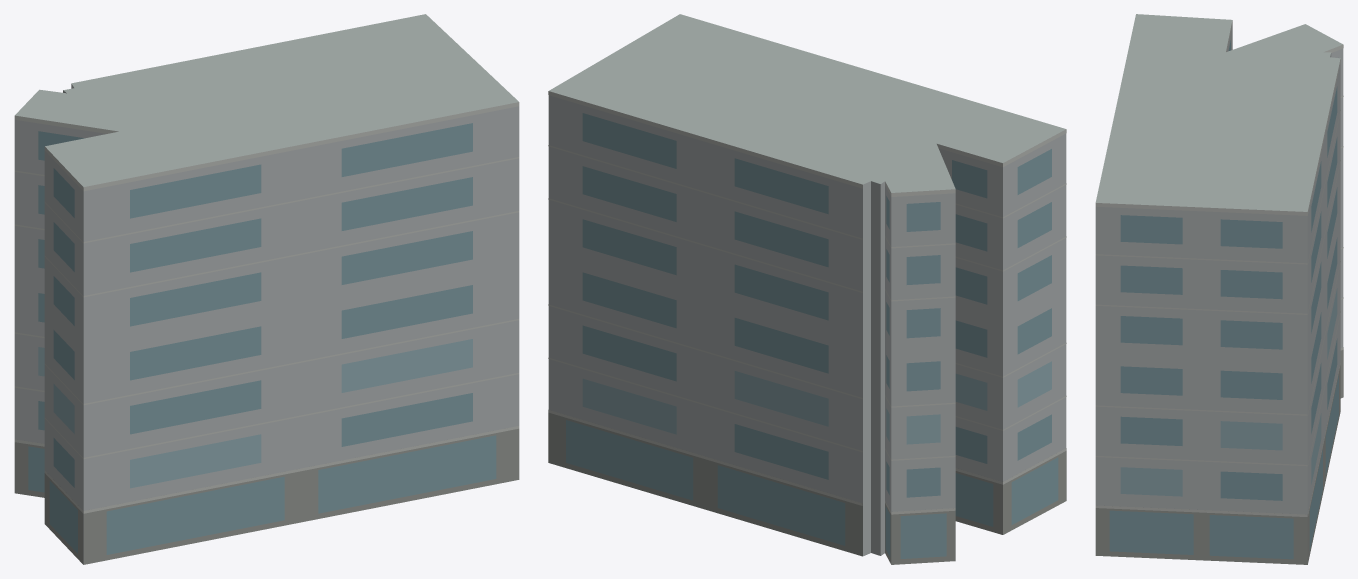
File: survey-upis-32659707.glb
3 renders of one model, left to right at view 1: azimuth 30°, elevation 25°; view 2: azimuth 150°, elevation 25°; view 3: azimuth 270°, elevation 25°, orthographic. The views are drawn at different scales.
Parts seen in each view (by area): view 1: survey-upis-32659707.tmp; view 2: survey-upis-32659707.tmp; view 3: survey-upis-32659707.tmp.
Boxes of the visible parts, x1,y1,x2,y2 form: survey-upis-32659707.tmp: (14,14,519,564); survey-upis-32659707.tmp: (548,14,1066,564); survey-upis-32659707.tmp: (1095,14,1343,564).
Bounding box in the file's own units: 26.49 × 22 × 14.03.
